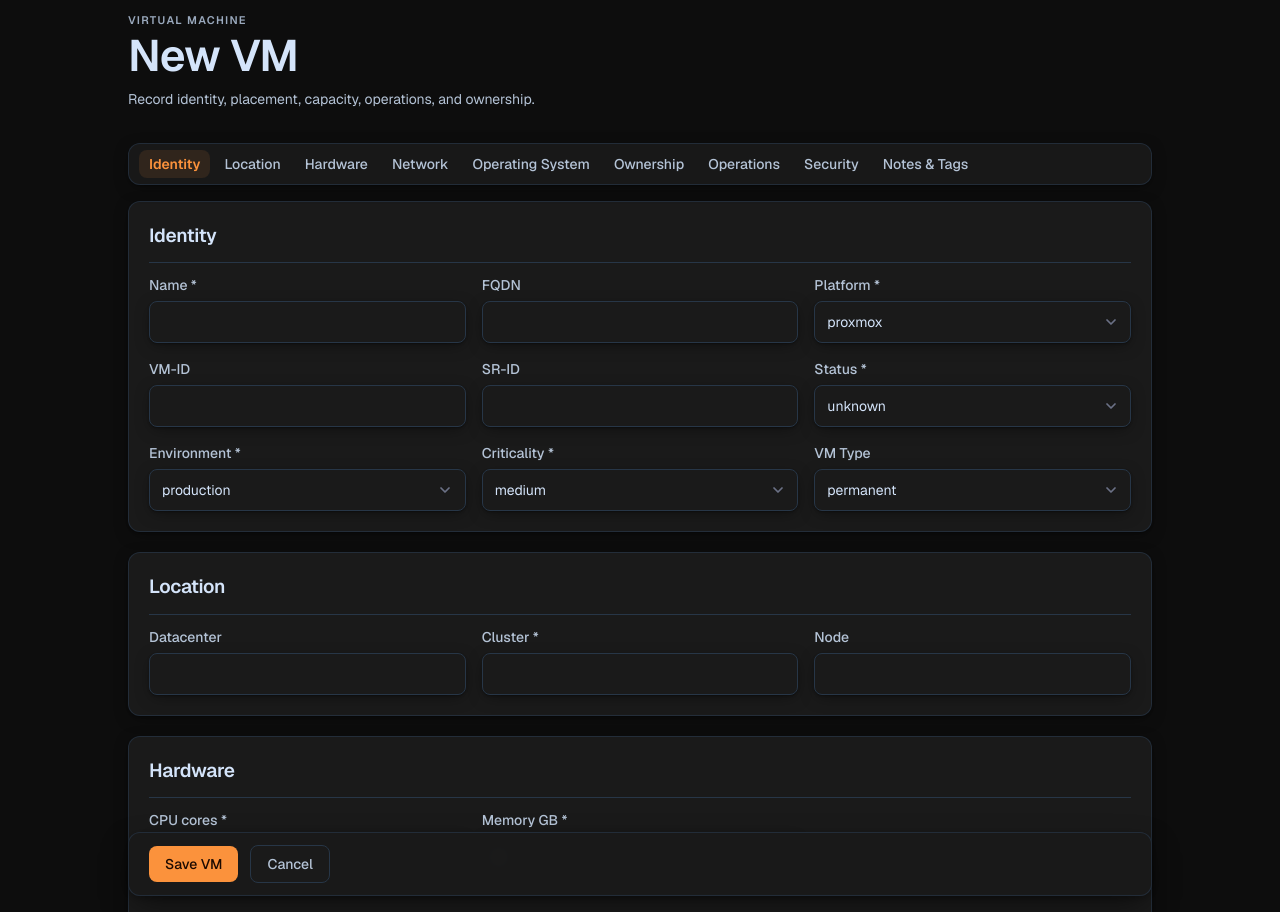
Scenario: VmFormPage combo/owner autocomplete › suggests clusters and sets input value on select
Step 1. Type "clu" into the dropdown labelled "Cluster *" → (640,674), box [482,653,798,695]
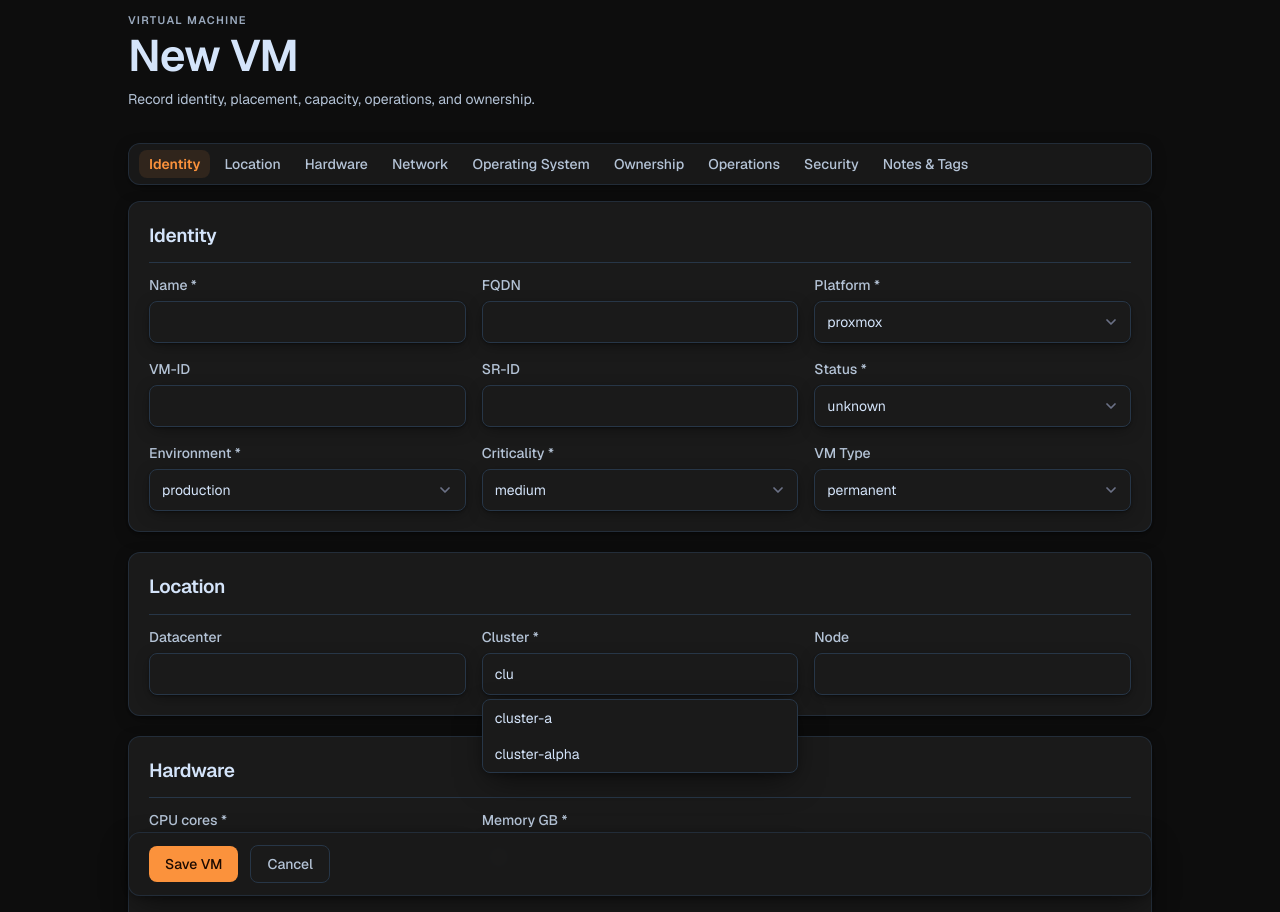
Expected: the button "cluster-a" is shown, [483,700,797,736]
Step 2. Click the button "cluster-alpha" → (537,754), box [483,736,797,772]
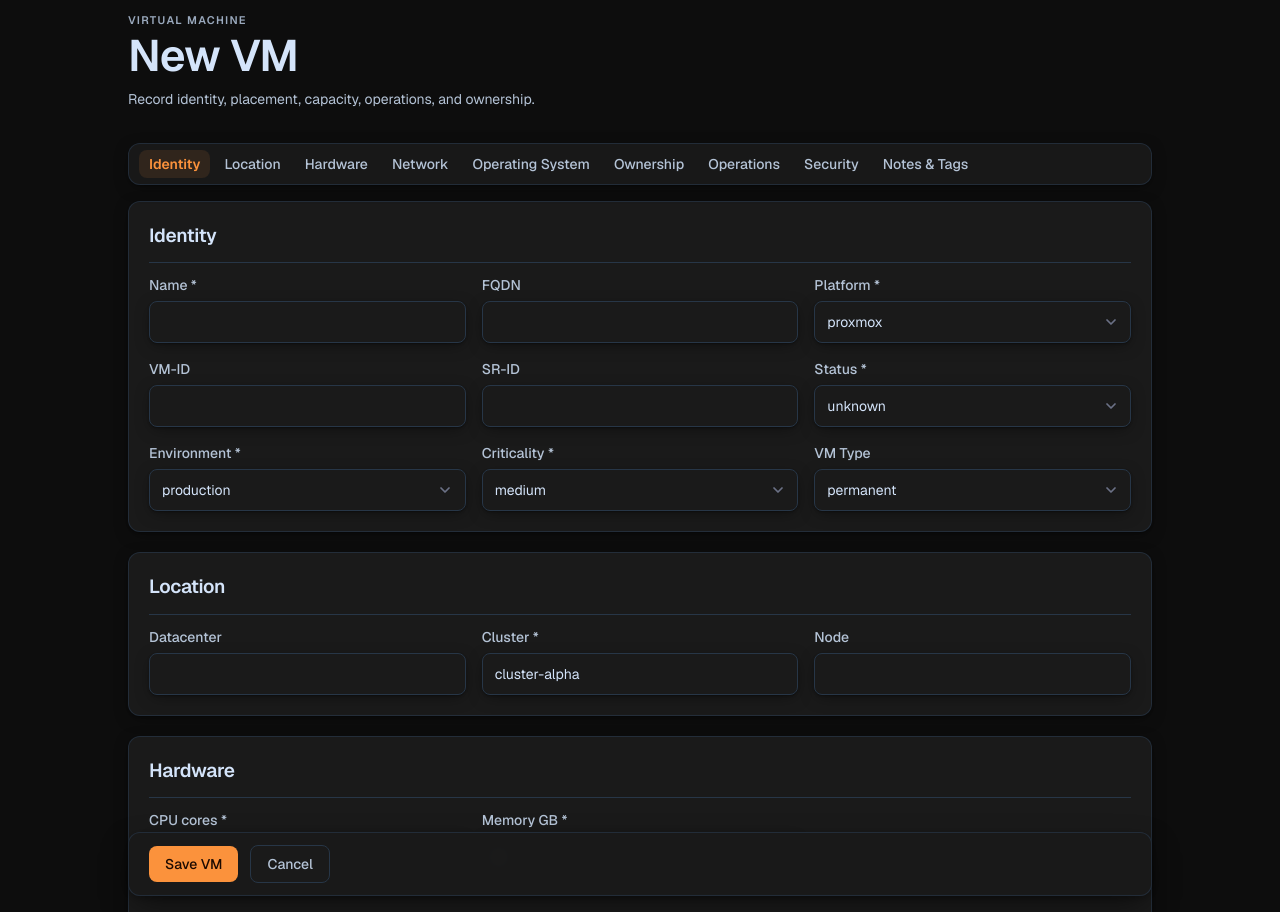
Expected: the dropdown labelled "Cluster *" holds "cluster-alpha", [482,653,798,695]
